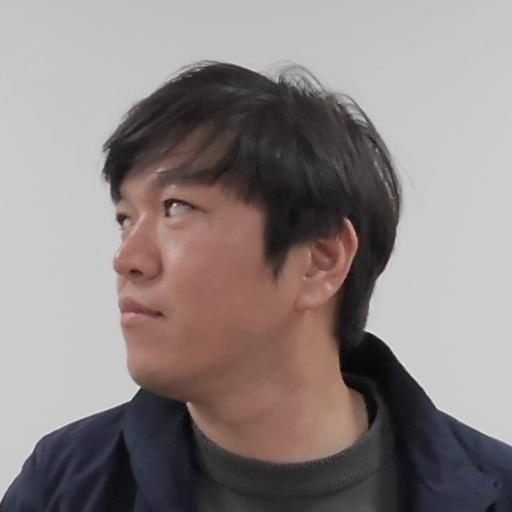no_glasses: (86, 66, 412, 387)
